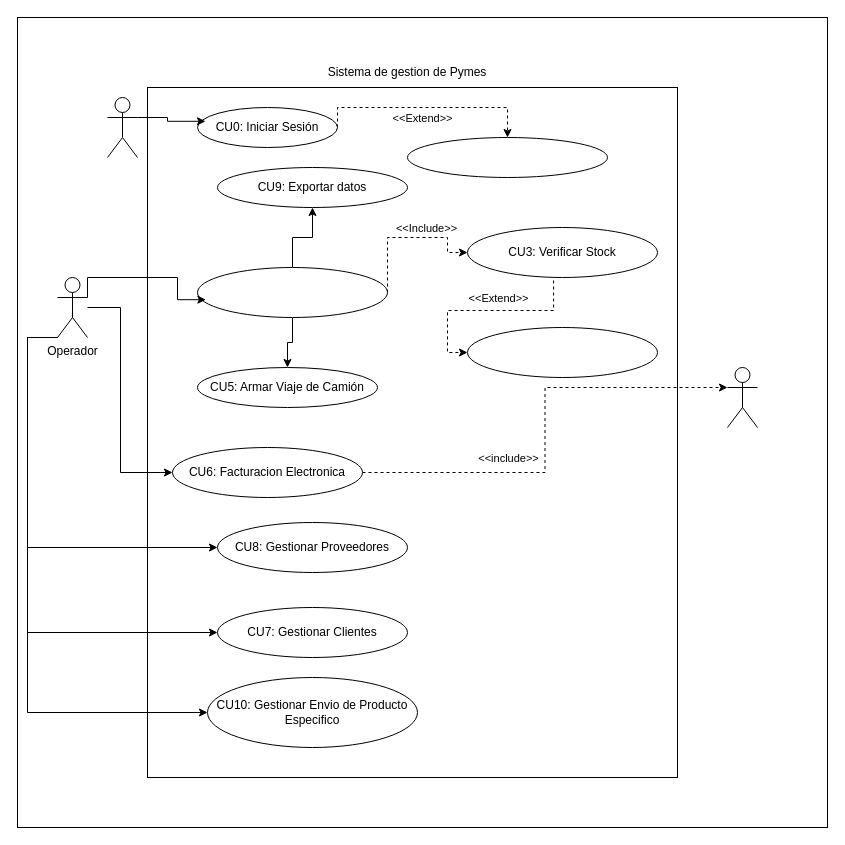
The diagram is 845 pixels wide and 845 high, and some of its shapes have lost their labels. Here are the shapes that lost their labels. From the top down, the centre of each, then its label:
At pixel 122 127: "Anonimo".
At pixel 507 157: "CU1: Recuperar Contraseña".
At pixel 292 292: "CU2: Cargar Nota de Pedido".
At pixel 562 352: "CU4: Armar Pedido a Fabrica".
At pixel 742 397: "ARCA".
